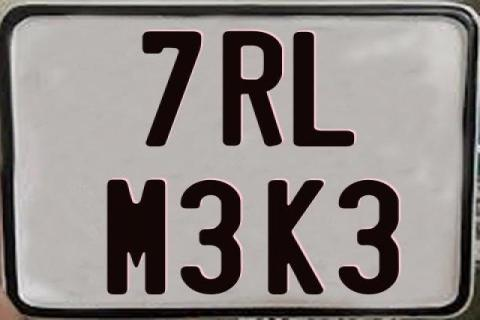0: (179, 180, 243, 298), (338, 179, 400, 296), (140, 30, 199, 148)
K: (268, 178, 328, 294)
L: (293, 32, 354, 148)
M: (107, 178, 171, 294)
R: (222, 31, 287, 148)
